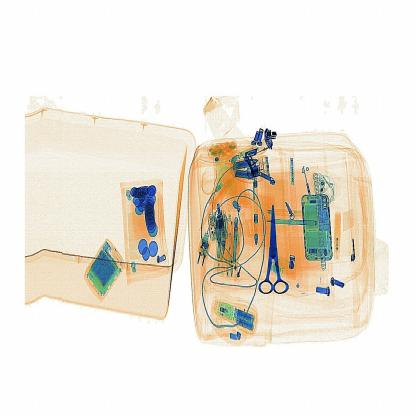gun: (253, 197, 295, 309)
